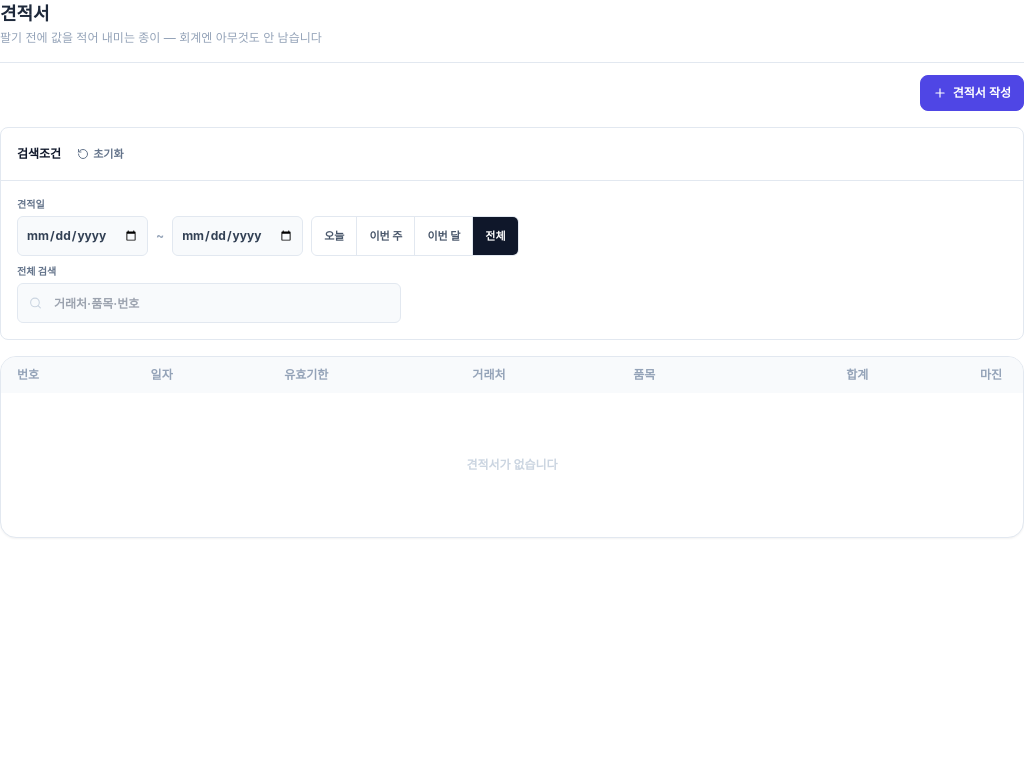
Scenario: 견적 작성 행동은 검색보다 먼저 있고 검색 입력 후에도 새 작성 초안을 연다
Expected: the element "견적서 작성" is shown, [920,75,1023,111]
Type "없는 견적" into the field named "견적 검색" at [209, 303], box [17,283,401,323]
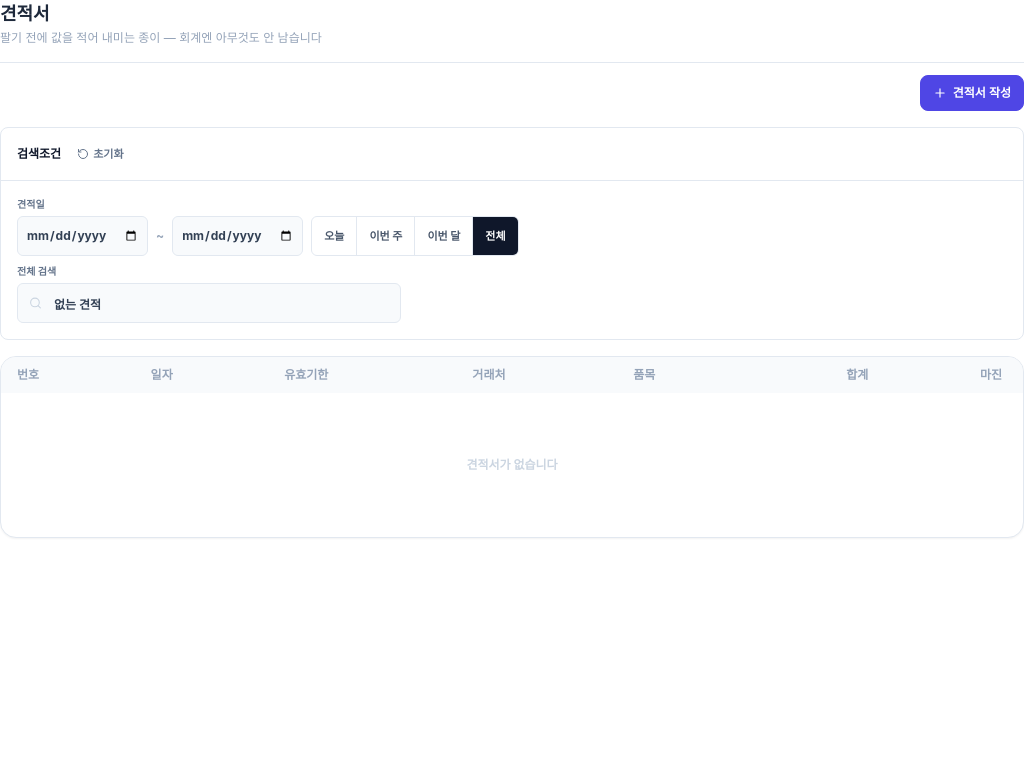
Click the button "견적서 작성" at [972, 93], box [920,75,1023,111]
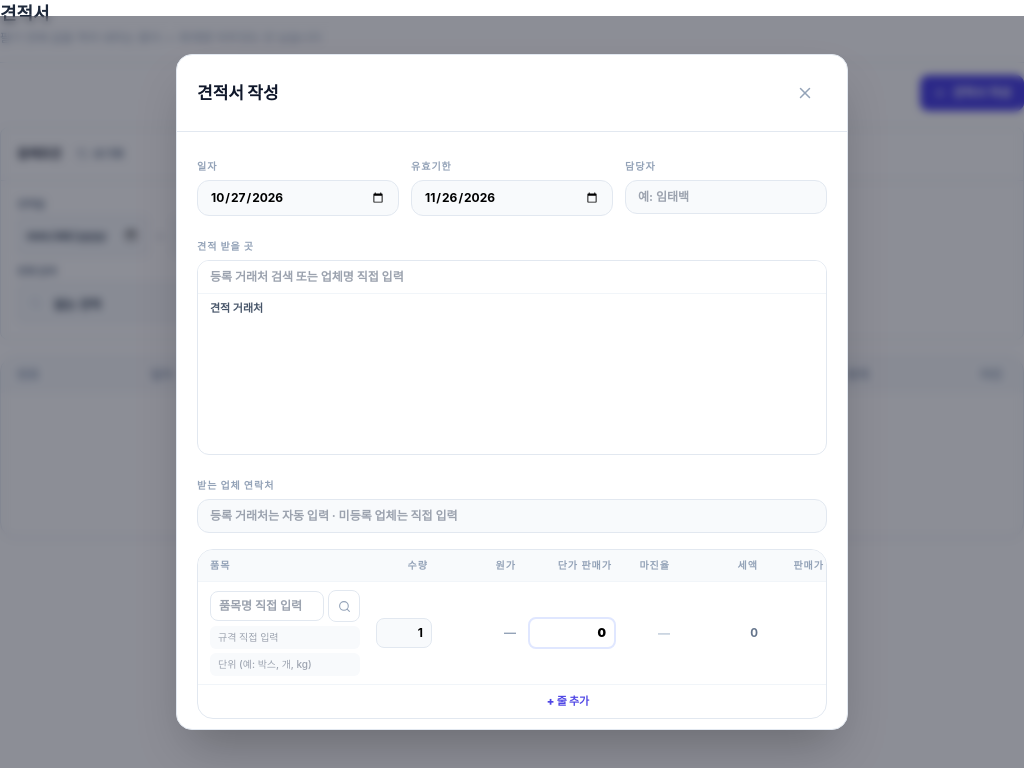
Result: the dialog "견적서 작성" is shown at [176,54,848,730]
